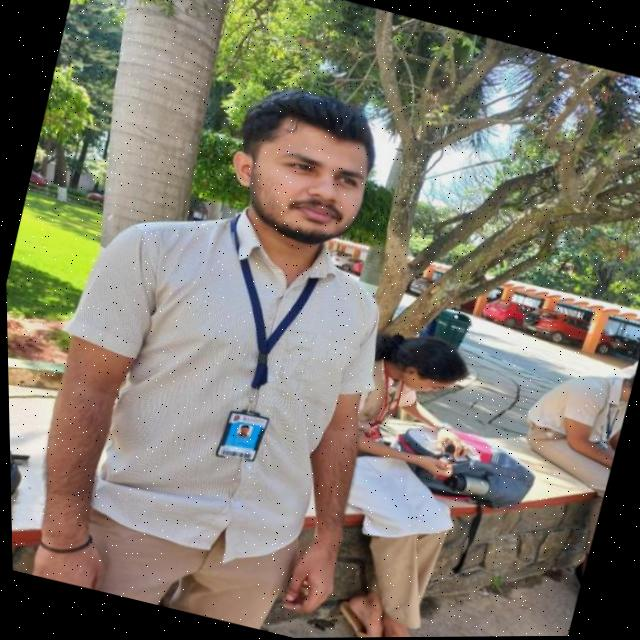id_card: (174, 212, 335, 476)
